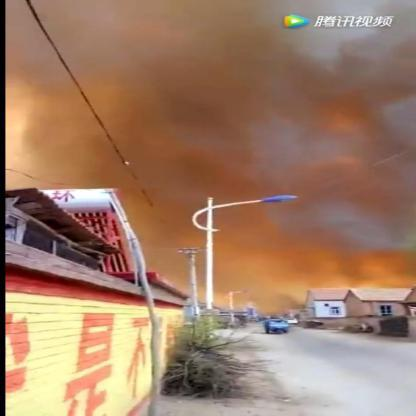smoke: (7, 0, 414, 187), (228, 206, 410, 294), (138, 190, 204, 282)
